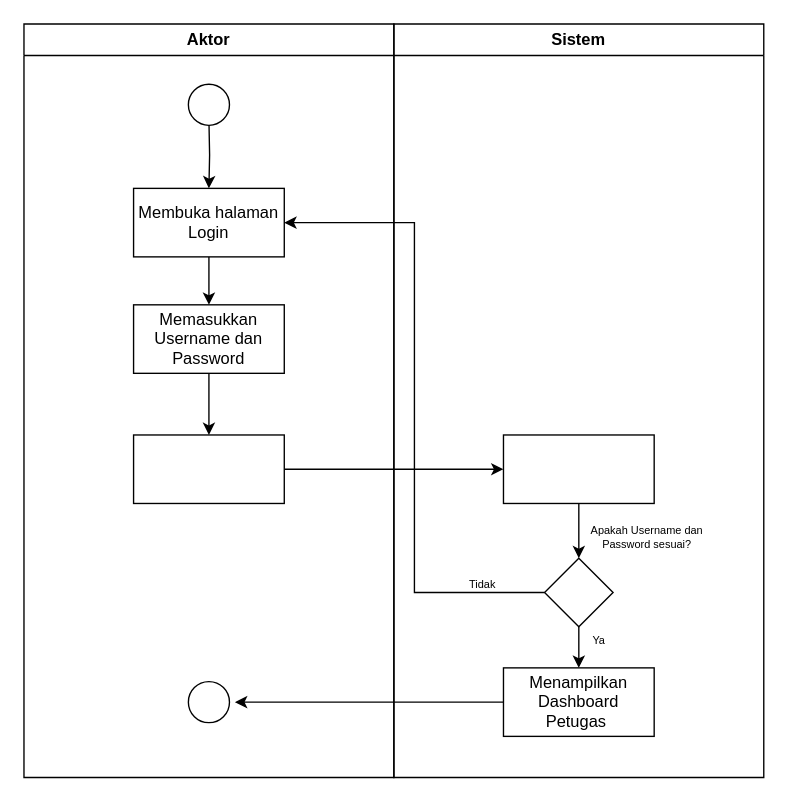
The diagram is 788 pixels wide and 801 high, and some of its shapes have lost their labels. Here are the shapes that lost their labels. From the top down, the centre of each, then its label:
At (208,468): "Pencet tombol Login".
At (578,468): "Autentikasi Username dan Password".
